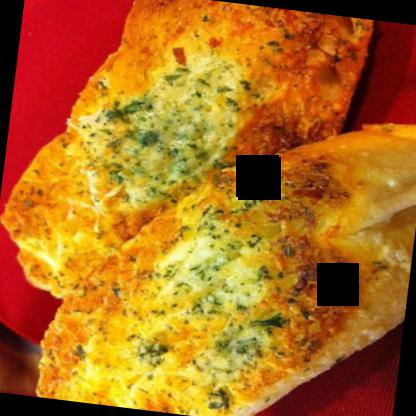toast bread: (0, 0, 382, 326), (33, 94, 415, 415)
